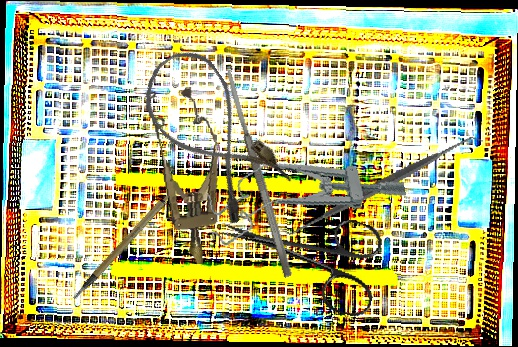Cannula: (128, 39, 296, 228)
Iris Scissors: (206, 185, 392, 321)
Scalpel Handle: (56, 183, 192, 300)
Spatula Surgical: (281, 82, 484, 289), (223, 68, 294, 279)
Speculum: (200, 138, 410, 249), (141, 84, 234, 269)
